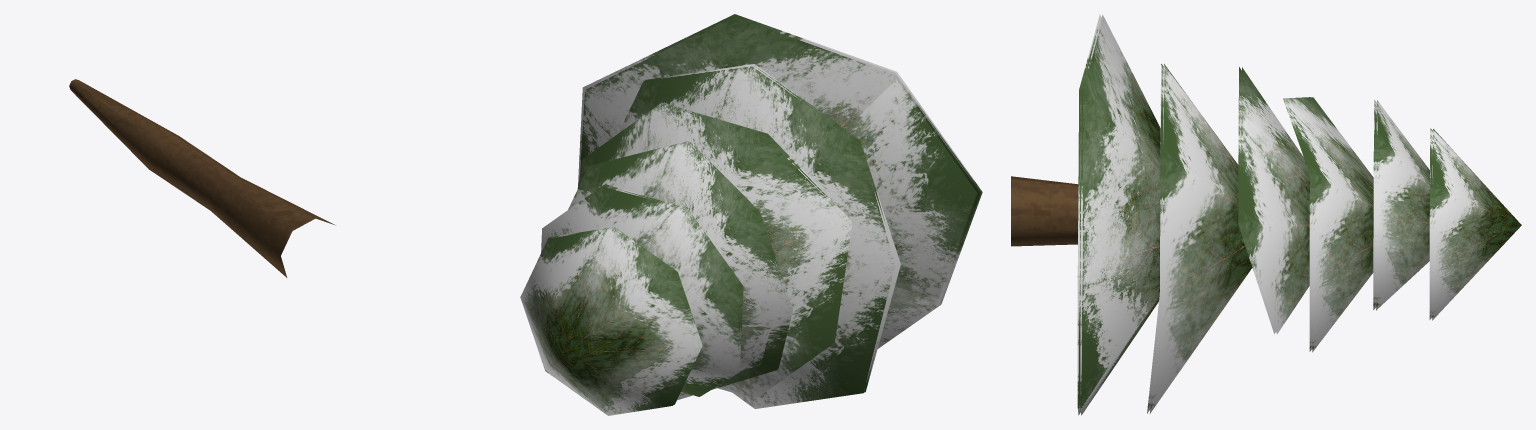
File: tree.glb
3 renders of one model, left to right at view 1: azimuth 30°, elevation 25°; view 2: azimuth 150°, elevation 25°; view 3: azimuth 270°, elevation 25°, orthographic.
Parts seen in each view (by area): view 1: stktex_generic_WoodC.png__; view 2: coniferous_tree.jpg__; view 3: coniferous_tree.jpg__, stktex_generic_WoodC.png__.
Boxes of the visible parts, <box> form: stktex_generic_WoodC.png__: <box>69,79,335,277</box>; coniferous_tree.jpg__: <box>520,14,982,415</box>; coniferous_tree.jpg__: <box>1077,14,1521,415</box>; stktex_generic_WoodC.png__: <box>1011,176,1078,246</box>.
Size of the model in its own units: 10.63 by 8.66 by 11.43.
2 materials, 2 textured.
